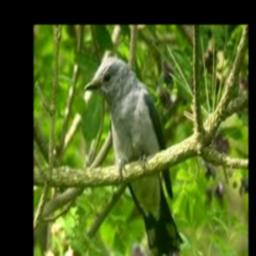Cuckoo: (84, 58, 183, 256)
